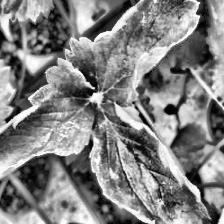Powdery Mildew Leaf: (89, 95, 210, 224), (62, 0, 200, 108), (0, 56, 97, 182)
